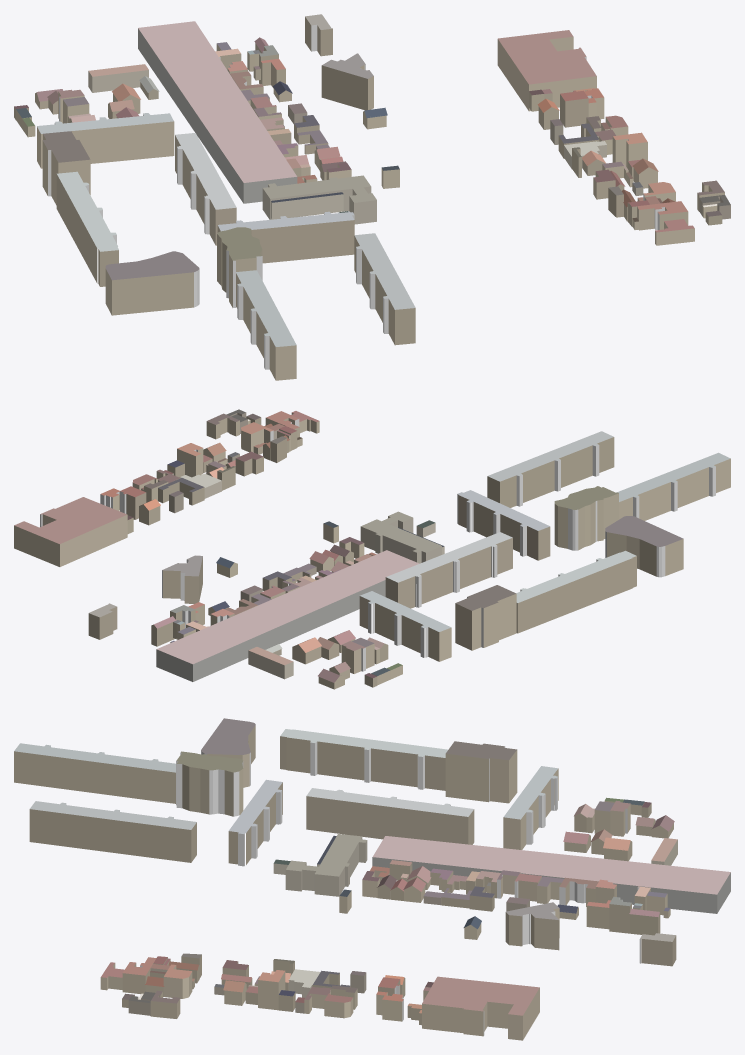
3 renders of one model, top to bottom at view 1: azimuth 30°, elevation 25°; view 2: azimuth 150°, elevation 25°; view 3: azimuth 270°, elevation 25°, orthographic. The views are drawn at different scales.
Parts seen in each view (by area): view 1: tuile; view 2: tuile; view 3: tuile.
Boxes of the visible parts, x1,y1,x2,y2 form: tuile: (14, 14, 730, 380); tuile: (14, 409, 730, 689); tuile: (14, 718, 730, 1040).
Bounding box in the file's own units: 289 × 26.19 × 312.
